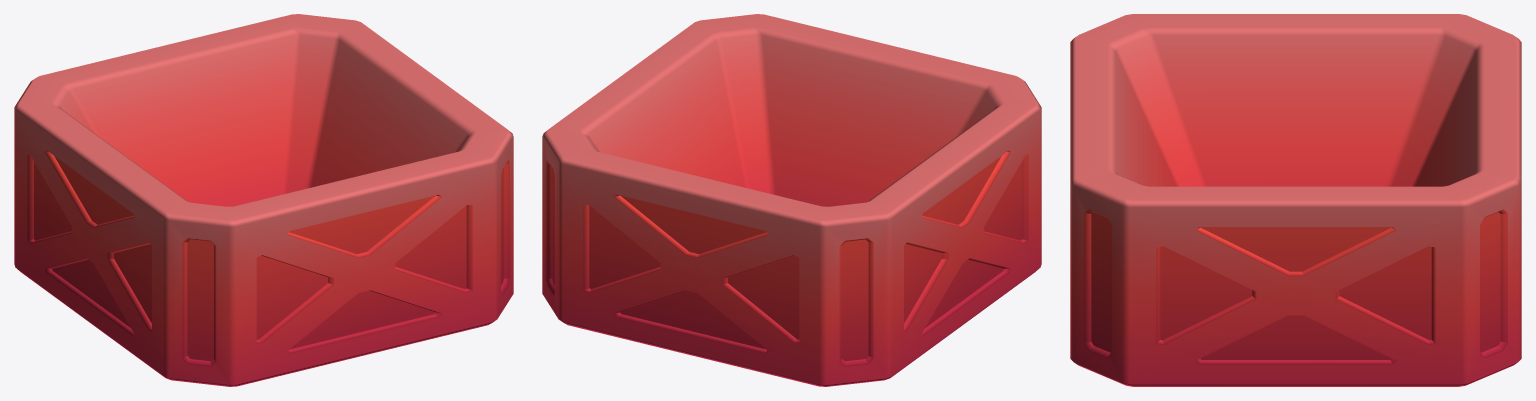
Rendered from obstacle_1_001.fbx.
The picture shows the model from 3 angles, left to right: view 1: azimuth 30°, elevation 25°; view 2: azimuth 150°, elevation 25°; view 3: azimuth 270°, elevation 25°; orthographic projection. The views are drawn at different scales.
Visible parts, largest first — view 1: obstacle_1_001; view 2: obstacle_1_001; view 3: obstacle_1_001.
Part boxes in pixels (x1,y1,x2,y2): obstacle_1_001: (14, 14, 513, 386); obstacle_1_001: (542, 14, 1041, 386); obstacle_1_001: (1070, 14, 1521, 386).
Size of the model in its own units: 1313 by 1313 by 600.
